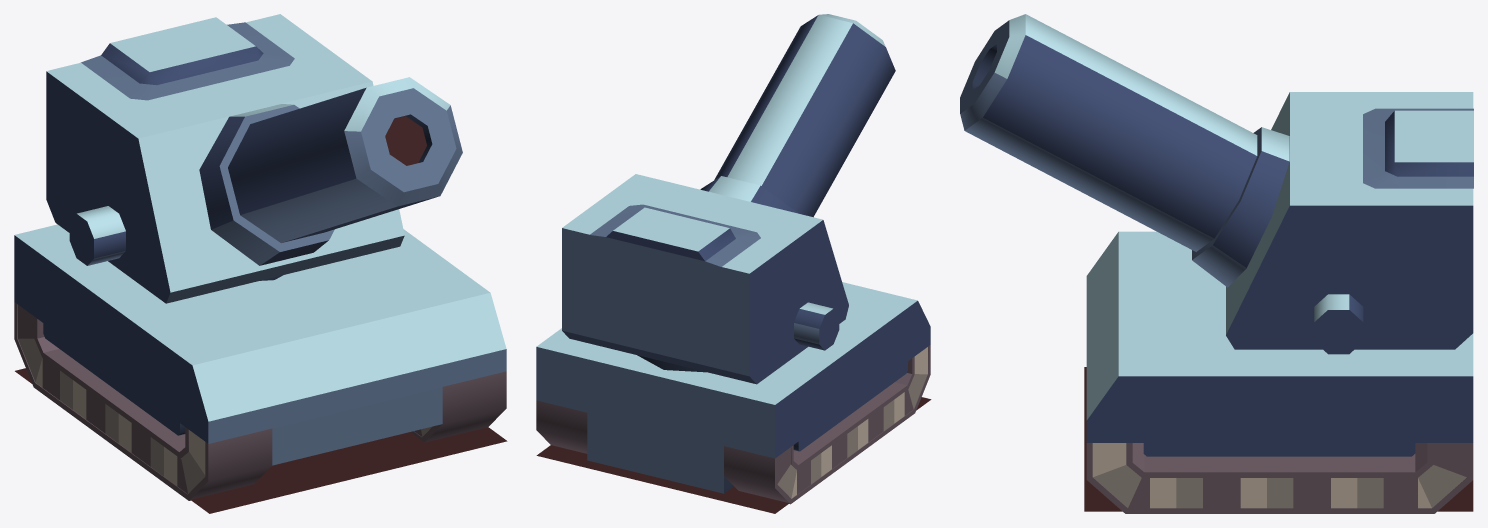
Rendered from ArtillertyMesh.SilverClaw.glb.
3 views of the same model, side by side, from view 1: azimuth 30°, elevation 25°; view 2: azimuth 150°, elevation 25°; view 3: azimuth 270°, elevation 25° (orthographic). The views are drawn at different scales.
Parts seen in each view (by area): view 1: ArtillertyMesh.SilverClaw; view 2: ArtillertyMesh.SilverClaw; view 3: ArtillertyMesh.SilverClaw.
Boxes of the visible parts, x1,y1,x2,y2 form: ArtillertyMesh.SilverClaw: [14, 14, 507, 513]; ArtillertyMesh.SilverClaw: [536, 14, 931, 513]; ArtillertyMesh.SilverClaw: [960, 14, 1473, 513].
Size of the model in its own units: 1.4 by 1.88 by 2.1.
Materials: 1 (1 with a texture image).
